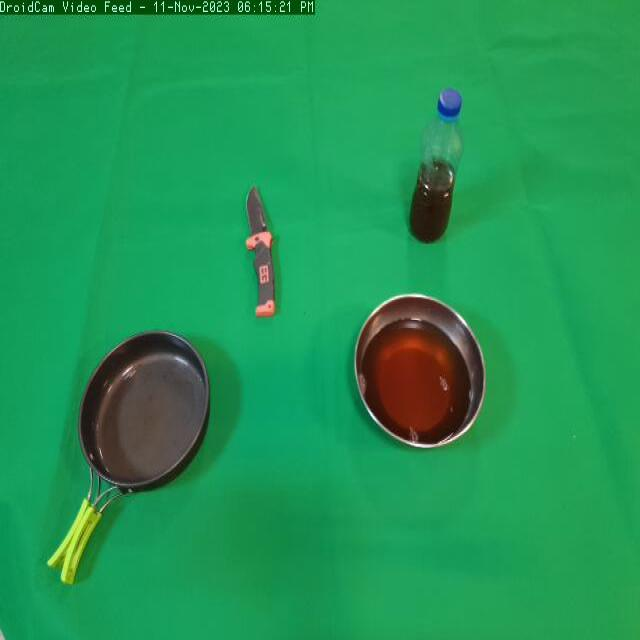fullbottle: (402, 81, 469, 252)
fullbowl: (351, 294, 499, 468)
knife: (238, 175, 291, 323)
pan: (44, 325, 224, 594)
